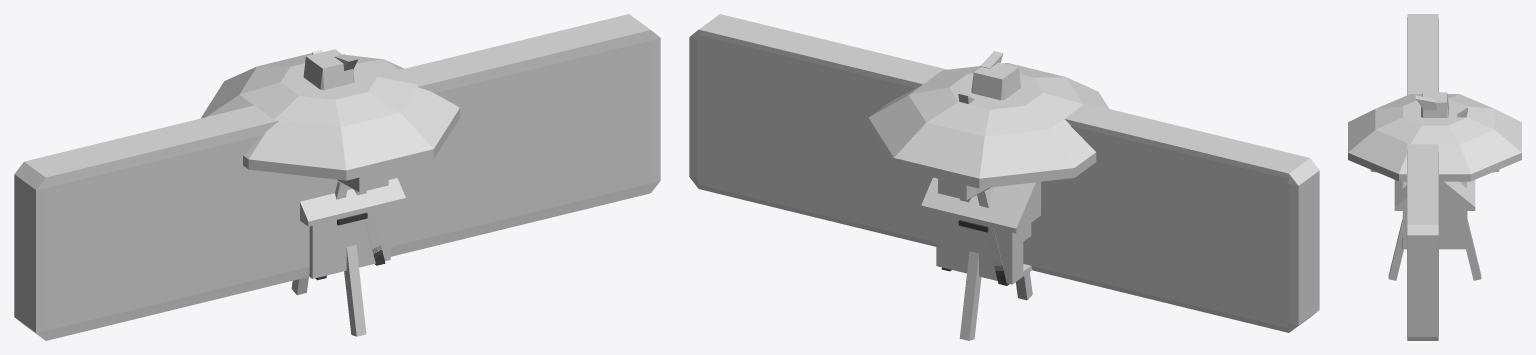
The model's file is city props 3.fbx.
3 renders of one model, left to right at view 1: azimuth 30°, elevation 25°; view 2: azimuth 150°, elevation 25°; view 3: azimuth 270°, elevation 25°, orthographic. The views are drawn at different scales.
Parts seen in each view (by area): view 1: marketLogo, cylinder_2, cuboid, cuboid_1, beveled_cuboid, cuboid_10, beveled_cuboid_1, cuboid_25; view 2: plane, marketLogo, cylinder_2, cuboid, cuboid_1, beveled_cuboid, cuboid_11, cuboid_24, beveled_cuboid_1; view 3: cylinder_2, marketLogo, cuboid_1, cuboid, beveled_cuboid, cuboid_11, cuboid_10, cuboid_32.
Part boxes in pixels (x1=…): marketLogo: x1=14, y1=14, x2=660, y2=340; cylinder_2: x1=201, y1=53, x2=459, y2=180; cuboid: x1=309, y1=207, x2=390, y2=278; cuboid_1: x1=300, y1=178, x2=405, y2=226; beveled_cuboid: x1=303, y1=49, x2=354, y2=89; cuboid_10: x1=344, y1=245, x2=366, y2=336; beveled_cuboid_1: x1=335, y1=170, x2=388, y2=192; cuboid_25: x1=354, y1=190, x2=385, y2=265; plane: x1=698, y1=35, x2=1288, y2=328; marketLogo: x1=689, y1=14, x2=1319, y2=332; cylinder_2: x1=868, y1=63, x2=1109, y2=188; cuboid: x1=936, y1=214, x2=1031, y2=284; cuboid_1: x1=921, y1=177, x2=1040, y2=233; beveled_cuboid: x1=971, y1=62, x2=1020, y2=100; cuboid_11: x1=959, y1=251, x2=981, y2=340; cuboid_24: x1=977, y1=187, x2=1009, y2=285; beveled_cuboid_1: x1=938, y1=178, x2=990, y2=200; cylinder_2: x1=1348, y1=94, x2=1521, y2=181; marketLogo: x1=1407, y1=14, x2=1438, y2=340; cuboid_1: x1=1394, y1=180, x2=1475, y2=210; cuboid: x1=1403, y1=211, x2=1466, y2=249; beveled_cuboid: x1=1421, y1=92, x2=1448, y2=117; cuboid_11: x1=1466, y1=217, x2=1481, y2=280; cuboid_10: x1=1388, y1=219, x2=1403, y2=280; cuboid_32: x1=1415, y1=95, x2=1437, y2=110.
Bounding box in the file's own units: 800 × 319 × 271.
1 material, 1 textured.
